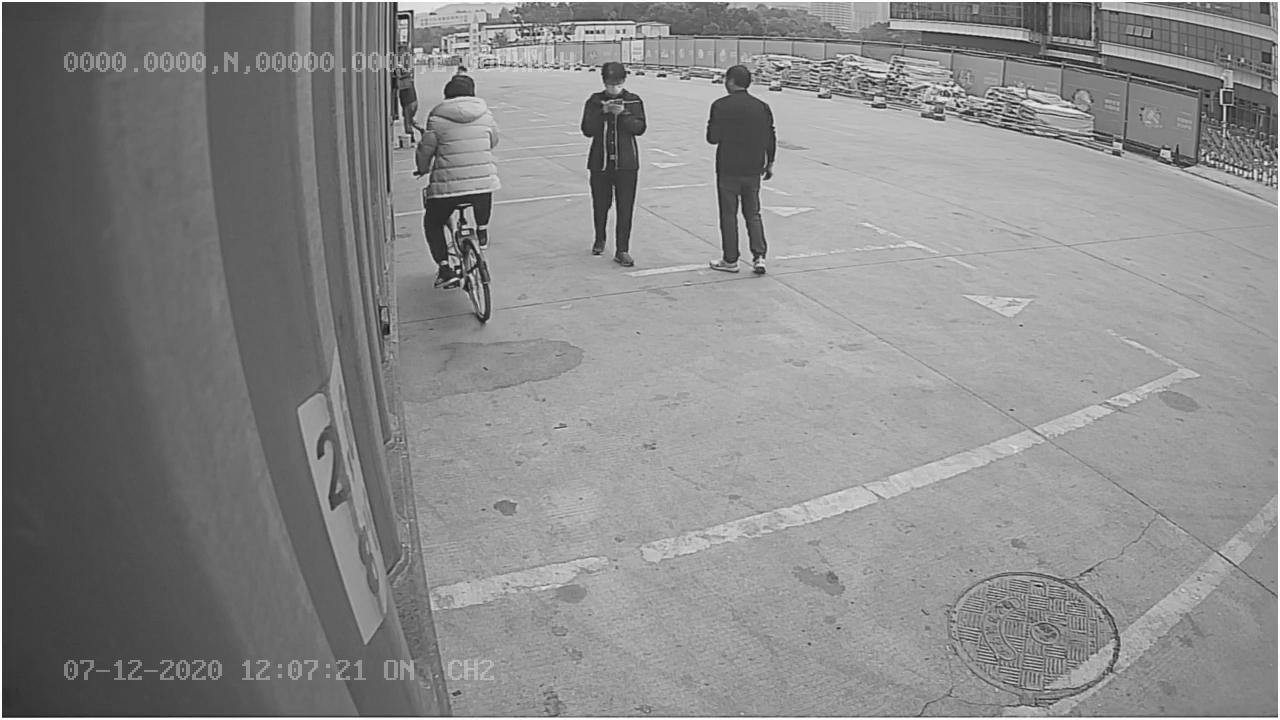person: (702, 59, 780, 277)
